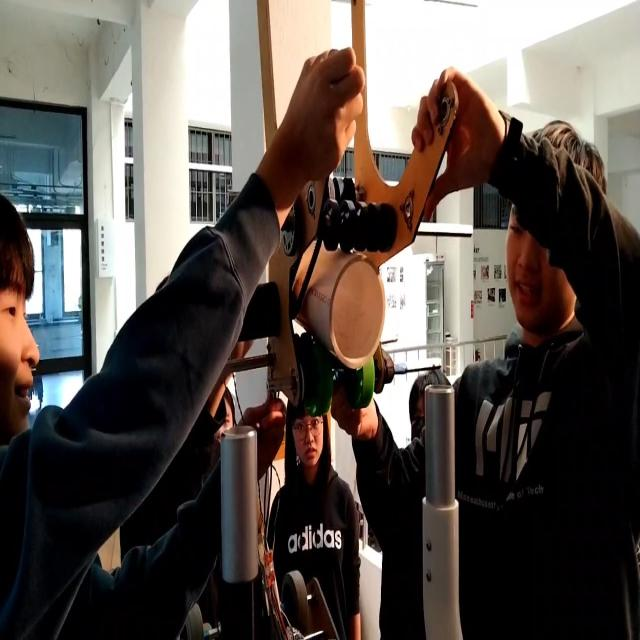CORAL: (304, 228, 388, 368)
